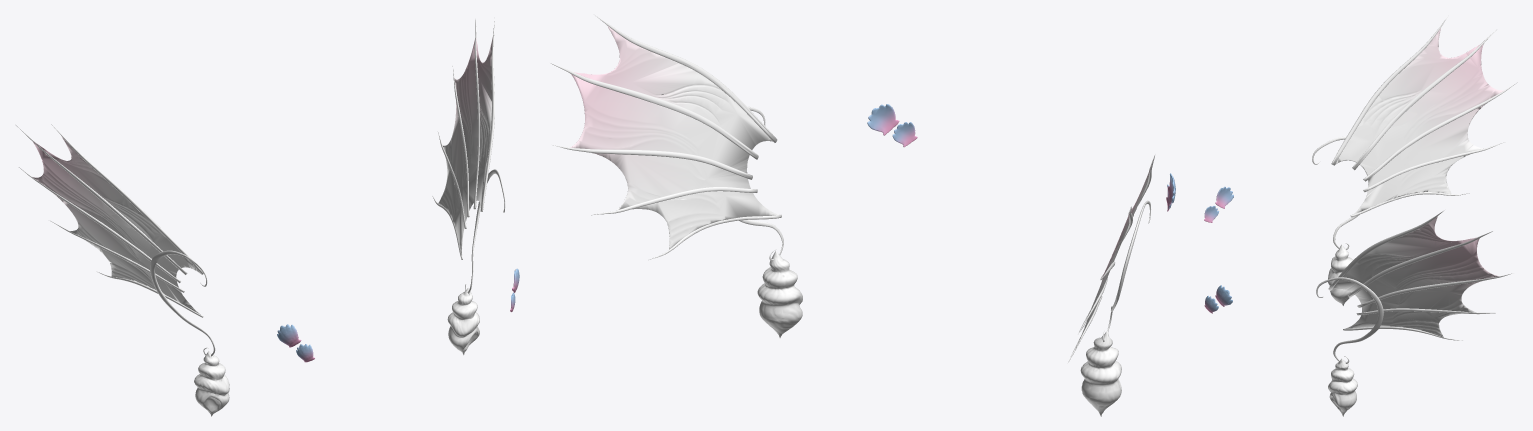
Rendered from Water_Earring.glb.
The picture shows the model from 3 angles, left to right: view 1: azimuth 30°, elevation 25°; view 2: azimuth 150°, elevation 25°; view 3: azimuth 270°, elevation 25°; orthographic projection. The views are drawn at different scales.
Visible parts, largest first — view 1: Water_Earring; view 2: Water_Earring; view 3: Water_Earring.
Part boxes in pixels (x1=…): Water_Earring: x1=16, y1=18, x2=519, y2=416; Water_Earring: x1=549, y1=15, x2=1175, y2=416; Water_Earring: x1=1204, y1=15, x2=1517, y2=416.
Size of the model in its own units: 0.3431 by 0.1967 by 0.2267.
